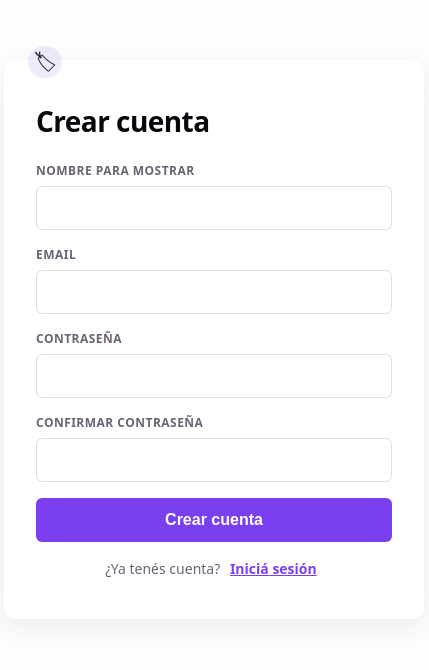
it: SignupPage › si signup() falla, la página muestra el mensaje de error traducido
The image size is (429, 670).
Type "Hernán" into the field labelled "Nombre para mostrar" at (214, 208), box [36,186,392,230]
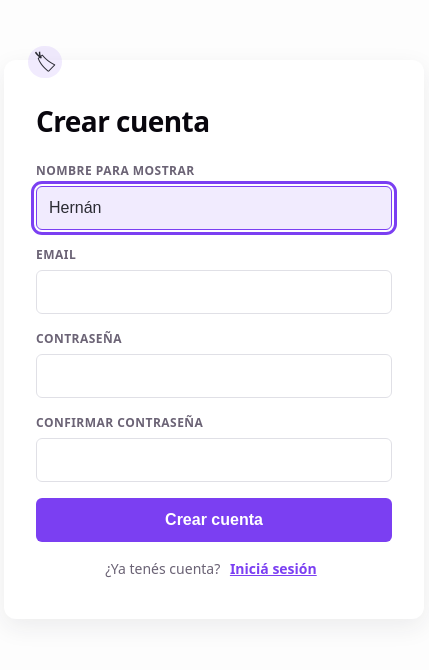
Type "hernan@example.com" into the field labelled "Email" at (214, 292), box [36,270,392,314]
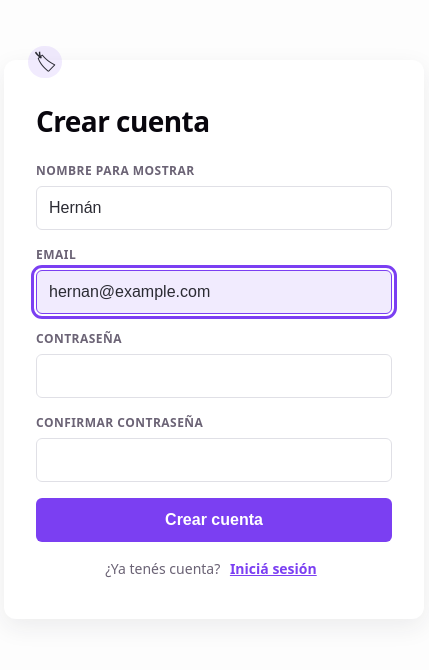
Type "clave123" into the password field labelled "Contraseña" at (214, 376), box [36,354,392,398]
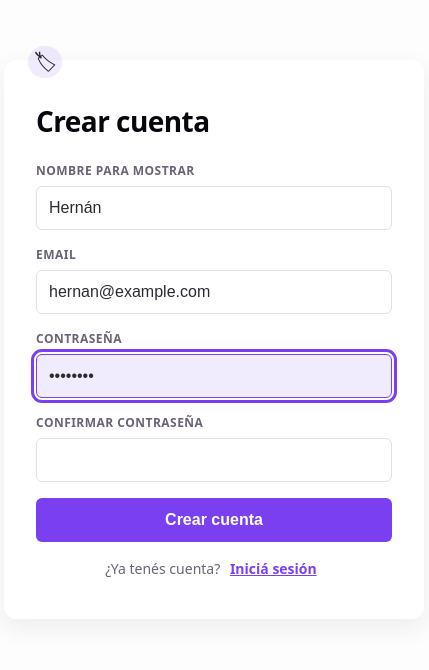
Type "clave123" into the password field labelled "Confirmar contraseña" at (214, 460), box [36,438,392,482]
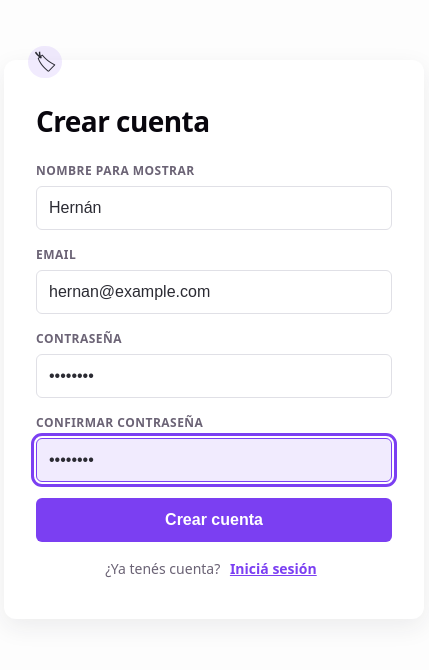
Click the button "Crear cuenta" at (214, 520), box [36,498,392,542]
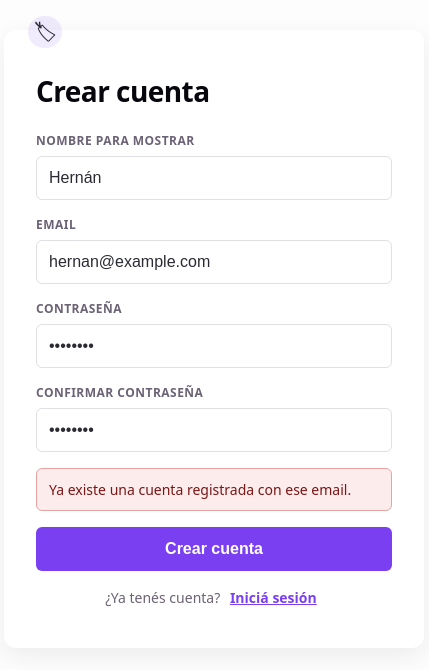
Expected: the message reads "Ya existe una cuenta registrada con ese email.", [49,480,351,499]
